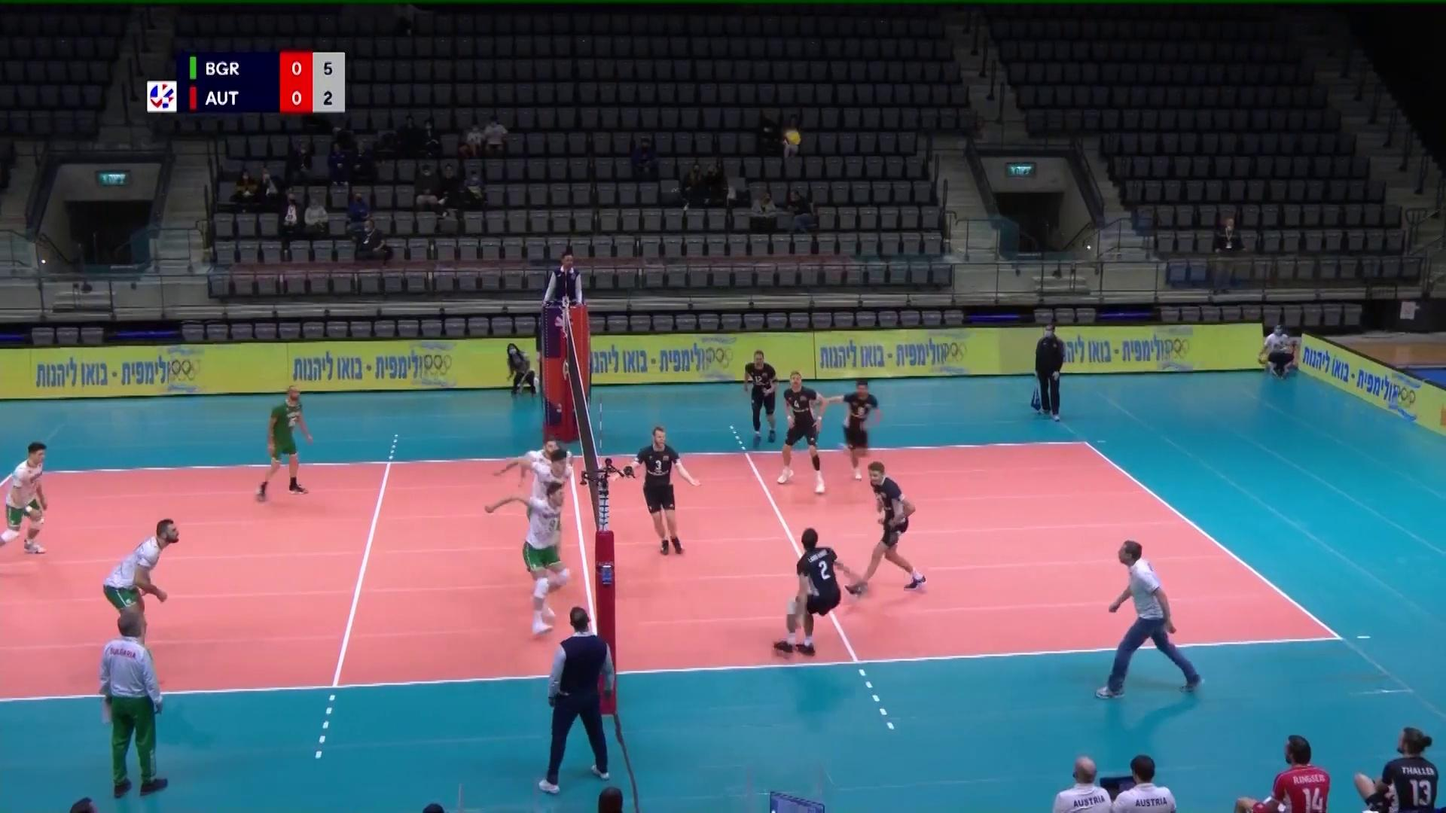ball: (783, 127, 802, 146)
